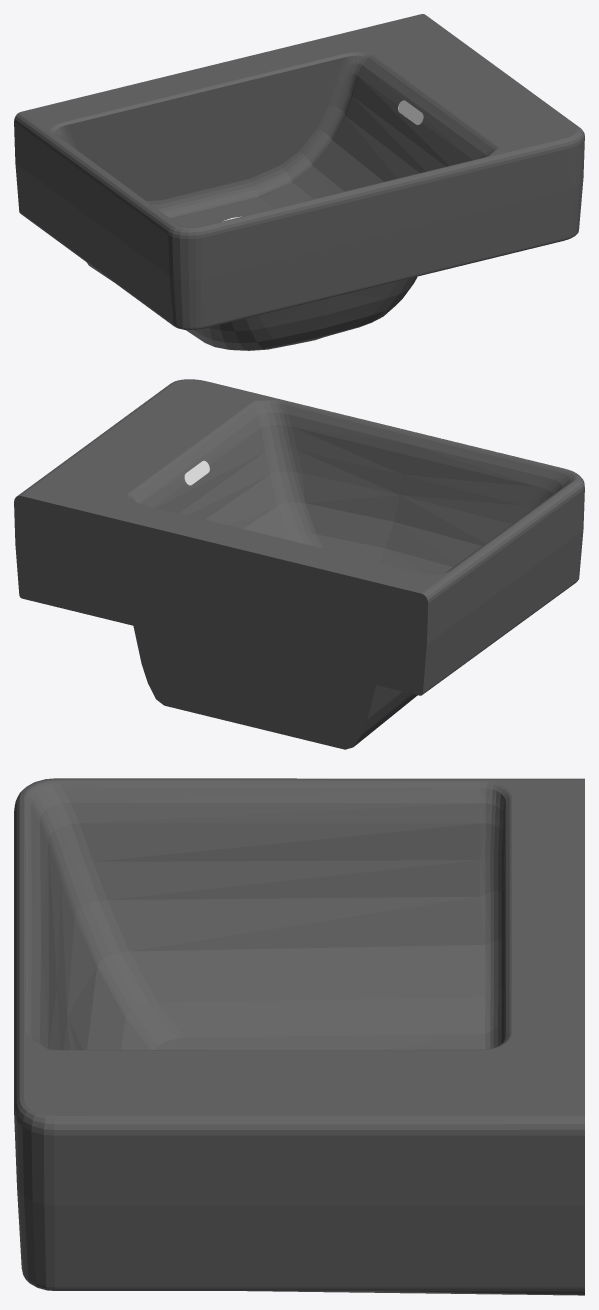
File: AEC_45686.glb
3 views of the same model, one above another, from view 1: azimuth 30°, elevation 25°; view 2: azimuth 150°, elevation 25°; view 3: azimuth 270°, elevation 25° (orthographic). The views are drawn at different scales.
Parts seen in each view (by area): view 1: 0; view 2: 0; view 3: 0.
Part boxes in pixels (bbox=[...]): 0: bbox=[14, 14, 584, 350]; 0: bbox=[14, 379, 584, 749]; 0: bbox=[14, 778, 584, 1295].
Size of the model in its own units: 0.36 by 0.145 by 0.25.
Materials: 1 (1 with a texture image).
